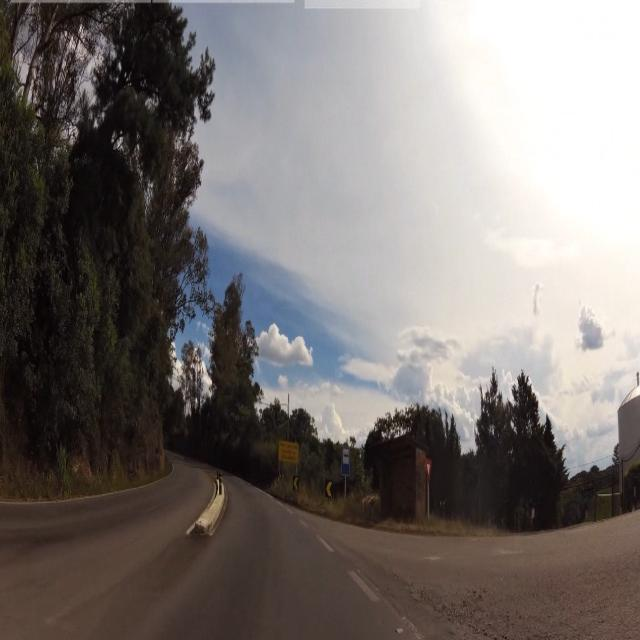Del: (325, 478, 334, 500)
R-2: (424, 459, 436, 477)
S-14: (342, 442, 351, 477)
